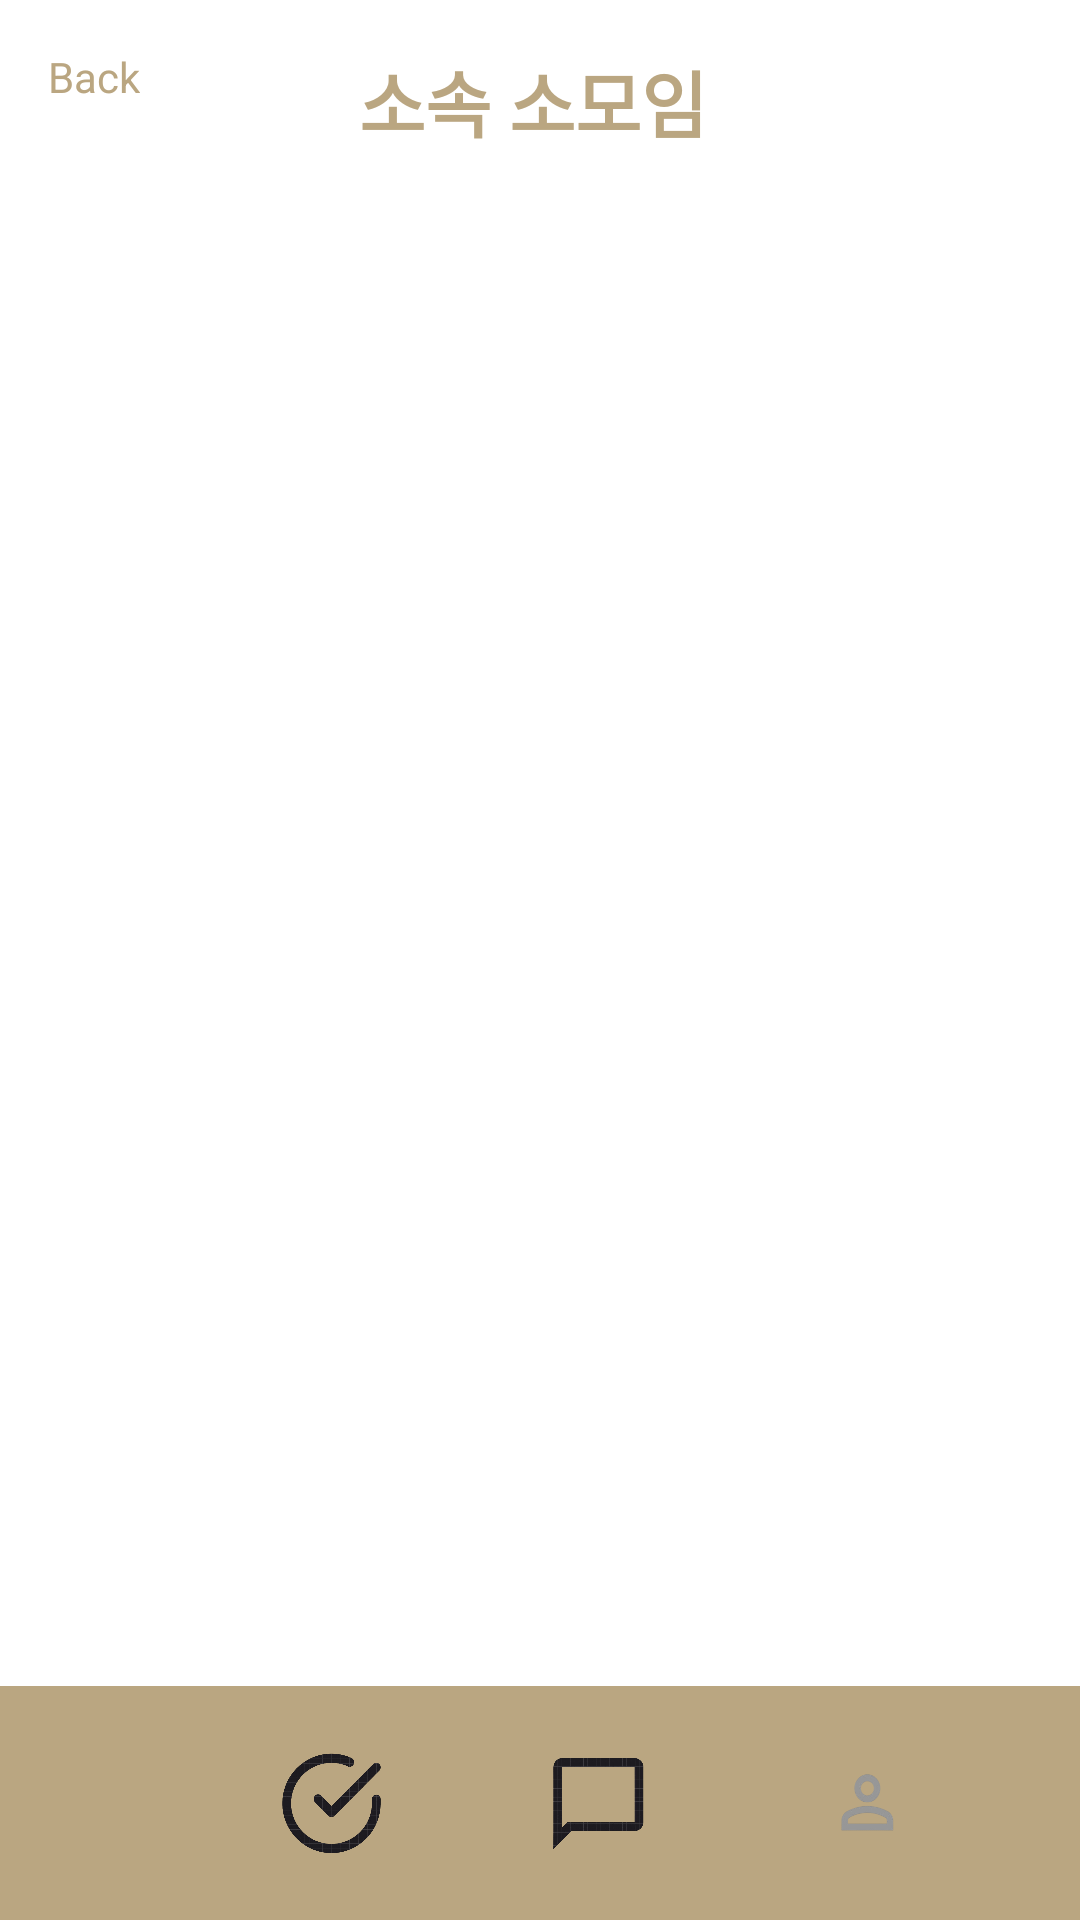

Point at icon controls on the screen. Image size 1080*1920, points as [x,y].
chat: [598,1803]
check: [331,1803]
mypage: [867,1802]
